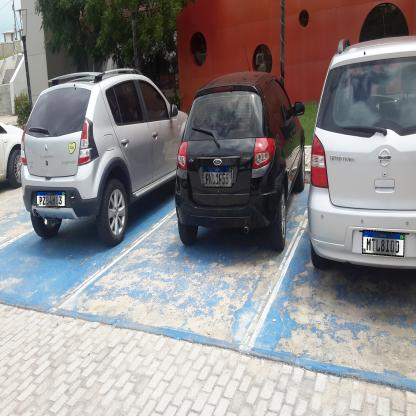PlacaM: (362, 230, 405, 257), (203, 166, 232, 188), (36, 191, 66, 207)
